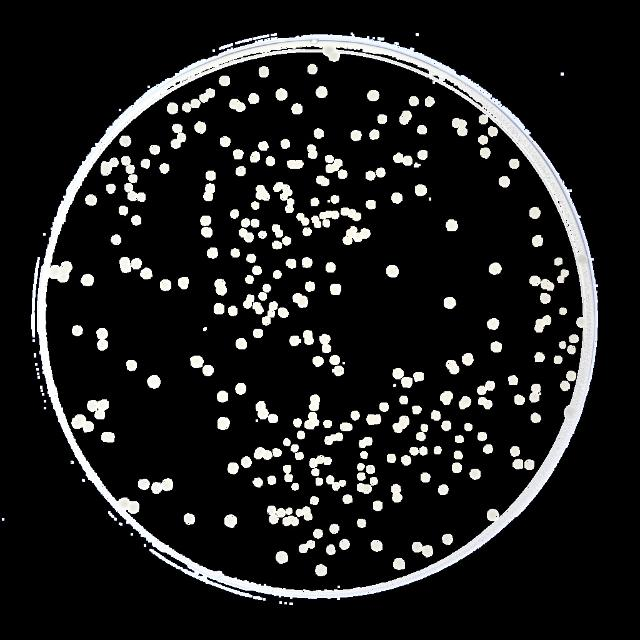colony: (146, 373, 160, 387), (485, 508, 499, 522), (290, 102, 304, 116), (445, 360, 459, 374), (57, 271, 71, 283), (80, 275, 94, 287), (274, 88, 288, 100), (178, 276, 190, 290), (506, 374, 520, 386), (441, 392, 453, 406), (459, 396, 471, 410), (488, 263, 502, 275), (200, 225, 213, 237), (386, 265, 399, 277), (73, 416, 85, 428), (225, 514, 237, 526), (237, 337, 249, 349), (368, 90, 380, 102), (316, 87, 328, 99), (194, 122, 206, 134), (530, 413, 542, 425), (462, 353, 474, 365), (488, 318, 500, 330), (542, 278, 554, 290), (532, 236, 544, 248), (282, 236, 294, 248), (446, 219, 458, 231), (416, 124, 428, 136), (415, 185, 427, 197), (350, 130, 362, 142), (217, 418, 230, 429), (101, 432, 115, 442), (398, 414, 408, 428), (412, 372, 426, 382), (442, 298, 456, 308), (118, 206, 130, 217), (322, 43, 333, 55), (246, 94, 258, 105), (424, 98, 436, 109), (401, 112, 412, 124), (288, 160, 304, 168), (50, 265, 60, 277), (72, 325, 84, 335), (96, 340, 108, 350), (126, 361, 138, 371), (216, 392, 228, 402), (184, 513, 196, 523), (276, 552, 288, 562), (316, 564, 328, 574), (393, 559, 405, 569), (100, 162, 110, 174), (148, 145, 160, 155), (167, 103, 179, 113), (257, 67, 269, 77), (329, 52, 341, 62), (234, 103, 246, 113), (204, 192, 216, 202), (161, 280, 171, 292), (208, 248, 218, 260), (252, 329, 264, 339), (289, 336, 301, 346), (363, 484, 373, 496), (512, 395, 524, 405), (398, 394, 408, 406), (576, 317, 586, 329), (566, 344, 576, 356), (541, 292, 551, 304), (529, 276, 539, 288), (530, 206, 540, 218), (319, 334, 331, 344), (302, 336, 314, 346), (298, 298, 310, 308), (278, 308, 290, 318), (304, 282, 316, 292), (286, 258, 296, 270), (302, 256, 312, 268), (499, 176, 509, 188), (508, 158, 520, 168), (478, 114, 488, 126), (402, 156, 412, 168), (392, 192, 402, 204), (343, 234, 353, 246), (452, 120, 466, 128), (256, 192, 270, 200), (94, 408, 105, 418), (120, 497, 130, 508), (338, 538, 349, 548), (371, 540, 382, 550), (87, 196, 97, 207), (392, 424, 403, 434), (392, 370, 403, 380), (559, 381, 569, 392), (566, 371, 576, 382), (332, 366, 343, 376), (368, 130, 379, 140), (97, 399, 109, 408), (373, 414, 382, 426), (393, 152, 402, 164), (63, 261, 73, 271), (140, 479, 150, 489), (326, 544, 336, 554), (445, 534, 455, 544), (439, 484, 449, 494), (403, 454, 413, 464), (228, 462, 238, 472), (262, 448, 272, 458), (236, 384, 246, 394), (121, 136, 131, 146), (131, 215, 141, 225), (160, 163, 170, 173), (220, 76, 230, 86), (220, 136, 230, 146), (142, 268, 152, 278), (214, 304, 224, 314), (228, 306, 238, 316), (268, 414, 278, 424), (366, 465, 376, 475), (358, 440, 368, 450), (350, 410, 360, 420), (430, 410, 440, 420), (440, 421, 450, 431), (402, 378, 412, 388), (477, 386, 487, 396), (483, 400, 493, 410), (534, 352, 544, 362), (492, 342, 502, 352), (313, 357, 323, 367), (260, 316, 270, 326), (245, 275, 255, 285), (230, 249, 240, 259), (244, 232, 254, 242), (250, 217, 260, 227), (258, 230, 268, 240), (331, 284, 341, 294), (272, 270, 282, 280), (326, 262, 336, 272), (480, 148, 490, 158), (478, 135, 488, 145), (409, 97, 419, 107), (418, 150, 428, 160), (377, 168, 387, 178), (353, 213, 363, 223), (322, 220, 332, 230), (338, 170, 348, 180), (322, 178, 332, 188), (314, 128, 324, 138), (233, 150, 243, 160), (272, 182, 282, 192), (111, 234, 122, 243), (130, 260, 142, 268), (256, 410, 268, 418), (306, 66, 318, 74), (201, 216, 213, 224), (532, 326, 544, 334), (244, 294, 256, 302), (251, 266, 263, 274), (377, 115, 389, 123), (314, 176, 326, 184), (308, 143, 320, 151), (258, 142, 270, 150), (87, 399, 97, 408), (127, 503, 137, 512), (422, 545, 431, 555), (513, 459, 523, 468), (470, 469, 480, 478), (256, 399, 266, 408), (200, 95, 210, 104), (228, 99, 238, 108), (217, 286, 226, 296), (359, 451, 368, 461), (363, 436, 372, 446), (334, 433, 344, 442), (379, 401, 388, 411), (530, 393, 540, 402), (362, 229, 371, 239), (330, 194, 340, 203), (310, 197, 320, 206), (237, 167, 247, 176), (216, 280, 227, 288), (296, 428, 304, 439), (236, 229, 247, 237), (452, 463, 461, 472), (109, 157, 118, 166), (120, 256, 130, 264), (121, 264, 131, 272), (193, 358, 203, 366), (152, 482, 160, 492), (162, 479, 170, 489), (454, 450, 462, 460), (392, 495, 402, 503), (310, 497, 320, 505), (291, 516, 299, 526), (267, 506, 275, 516), (269, 516, 279, 524), (252, 478, 262, 486), (242, 456, 250, 466), (272, 448, 282, 456), (105, 185, 115, 193), (128, 191, 136, 201), (172, 124, 182, 132), (183, 103, 191, 113), (206, 172, 216, 180), (325, 456, 333, 466), (310, 395, 320, 403), (310, 403, 320, 411), (306, 420, 314, 430), (326, 435, 334, 445), (367, 414, 375, 424), (532, 385, 542, 393), (416, 433, 426, 441), (413, 404, 421, 414), (487, 381, 495, 391), (478, 396, 486, 406), (544, 316, 552, 326), (569, 335, 579, 343), (560, 270, 570, 278), (554, 258, 564, 266), (330, 356, 340, 364), (320, 344, 330, 352), (293, 294, 303, 302), (243, 300, 251, 310), (263, 285, 273, 293), (247, 254, 257, 262), (240, 218, 250, 226), (272, 242, 282, 250), (365, 172, 375, 180), (352, 234, 362, 242), (314, 220, 322, 230), (303, 228, 313, 236), (326, 164, 336, 172), (334, 158, 342, 168), (251, 152, 259, 162), (266, 158, 276, 166), (282, 186, 292, 194), (204, 367, 213, 375), (329, 524, 338, 532), (412, 542, 421, 550), (524, 459, 532, 468), (419, 472, 428, 480), (206, 89, 214, 98), (312, 469, 321, 477), (332, 482, 340, 491), (356, 483, 364, 492), (313, 418, 321, 427), (342, 423, 351, 431), (458, 128, 467, 136), (97, 329, 107, 336), (255, 448, 262, 458), (140, 160, 150, 167), (273, 230, 283, 237), (283, 518, 291, 526), (276, 508, 284, 516), (292, 484, 300, 492), (286, 474, 294, 482), (283, 465, 291, 473), (268, 476, 276, 484), (122, 157, 130, 165), (126, 164, 134, 172), (129, 176, 137, 184), (124, 184, 132, 192), (136, 192, 144, 200), (172, 140, 180, 148), (178, 134, 186, 142), (192, 100, 200, 108), (206, 184, 214, 192), (294, 418, 302, 426), (326, 476, 334, 484), (316, 455, 324, 463), (370, 476, 378, 484), (420, 424, 428, 432), (554, 356, 562, 364), (536, 316, 544, 324), (559, 308, 567, 316), (558, 342, 566, 350), (556, 274, 564, 282), (267, 310, 275, 318), (254, 304, 262, 312), (258, 292, 266, 300), (230, 210, 238, 218), (272, 224, 280, 232), (252, 202, 260, 210), (489, 128, 497, 136), (366, 200, 374, 208), (344, 227, 352, 235), (350, 226, 358, 234), (348, 209, 356, 217), (286, 205, 294, 213), (282, 140, 290, 148), (256, 184, 264, 192), (280, 192, 288, 200), (303, 514, 313, 520), (308, 412, 318, 418), (308, 152, 318, 158), (84, 424, 92, 431), (356, 464, 364, 471), (324, 419, 331, 427), (433, 446, 442, 452), (419, 448, 428, 454), (300, 545, 306, 553), (305, 540, 313, 546), (313, 530, 321, 536), (510, 448, 518, 454), (484, 446, 492, 452), (478, 434, 486, 440), (465, 422, 471, 430), (408, 448, 416, 454), (392, 486, 400, 492), (358, 520, 366, 526), (344, 496, 352, 502), (304, 506, 310, 514), (296, 508, 302, 516), (296, 452, 302, 460), (310, 459, 316, 467), (316, 477, 322, 485), (338, 481, 346, 487), (358, 473, 364, 481), (303, 331, 311, 337), (270, 303, 278, 309), (320, 213, 328, 219), (302, 218, 308, 226), (297, 214, 305, 220), (287, 199, 295, 205), (326, 156, 334, 162), (414, 162, 421, 168), (342, 208, 348, 215), (456, 436, 462, 442), (388, 456, 394, 462), (374, 502, 380, 508), (283, 438, 289, 444), (292, 445, 298, 451), (332, 212, 338, 218), (327, 212, 333, 218), (312, 216, 318, 222), (286, 510, 292, 514), (393, 382, 397, 388), (204, 326, 208, 330), (344, 362, 344, 364), (430, 200, 432, 200)
